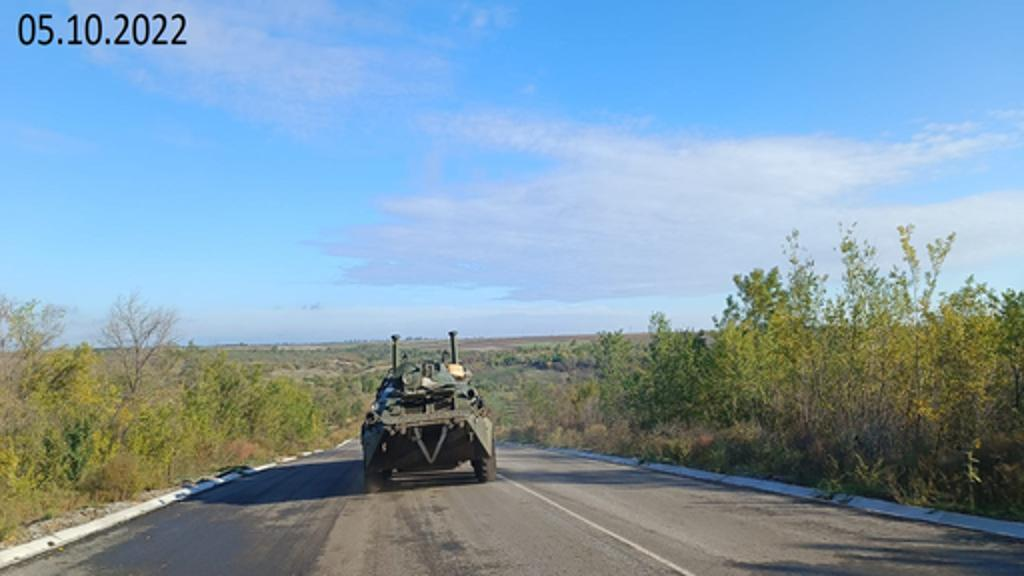APC-IFV: (344, 326, 508, 486)
